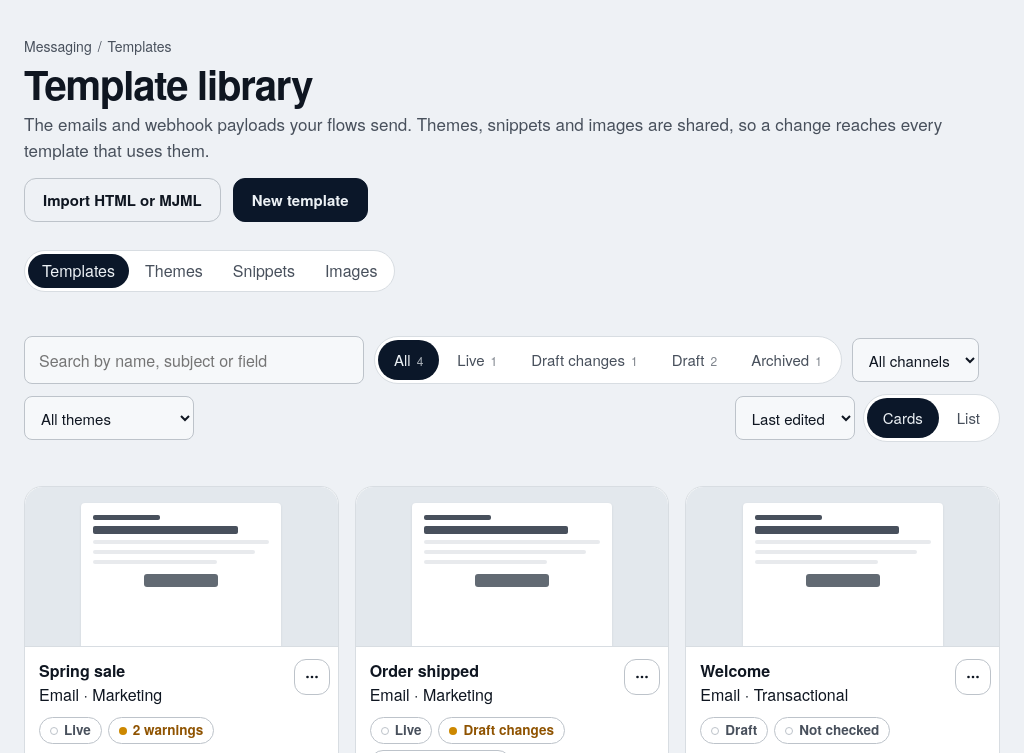
the template library › waits for a pause in typing before it searches
This screenshot has width=1024, height=753.
Expected: the button with aria-label "All 4" is shown, [378,340,439,380]
Type "sa" into the search field named "Search templates".
click(194, 360); type("sa")  # box [24,336,364,384]
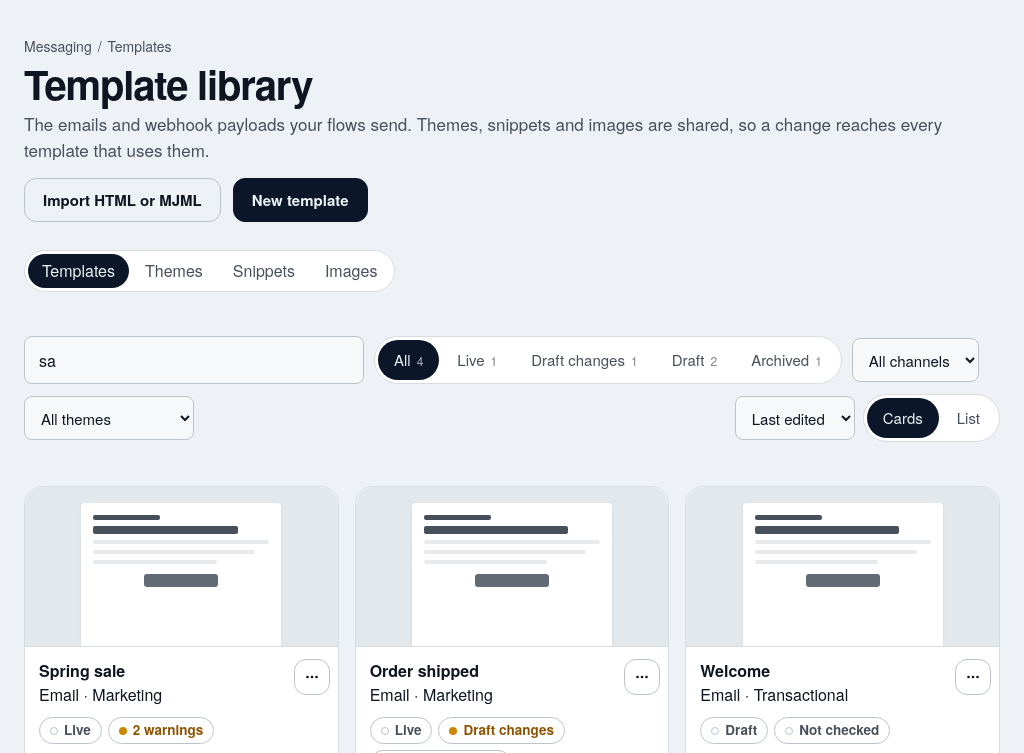
Replace the text in the search field named "Search templates" with "sale" at (194, 360), box [24,336,364,384]
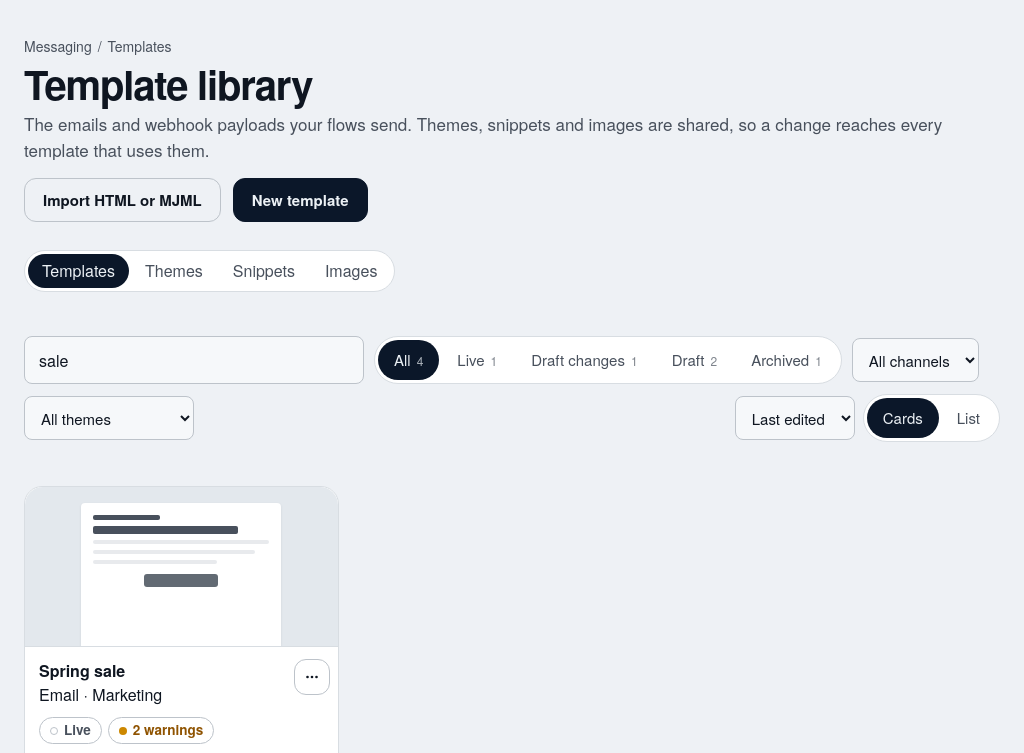
Expected: the link "Spring sale" is shown, [39,659,125,682]
Expected: the link "Welcome" is gone
